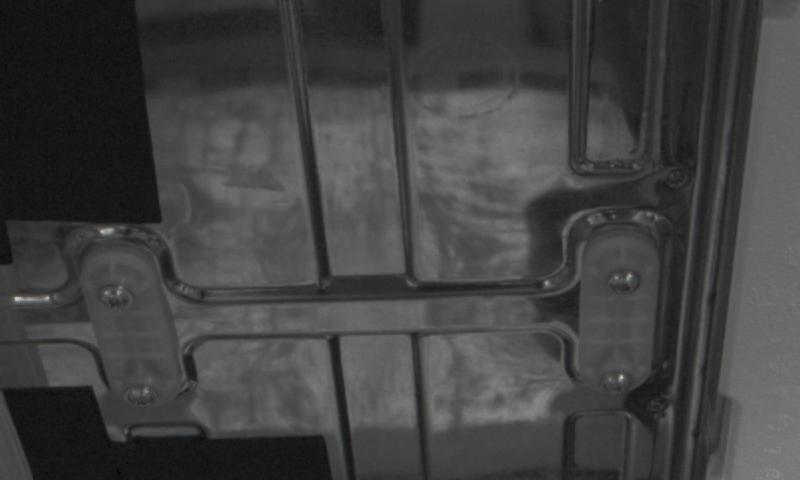vida-ok: (603, 258, 646, 303), (95, 274, 135, 319), (120, 375, 162, 415), (596, 362, 636, 400)
